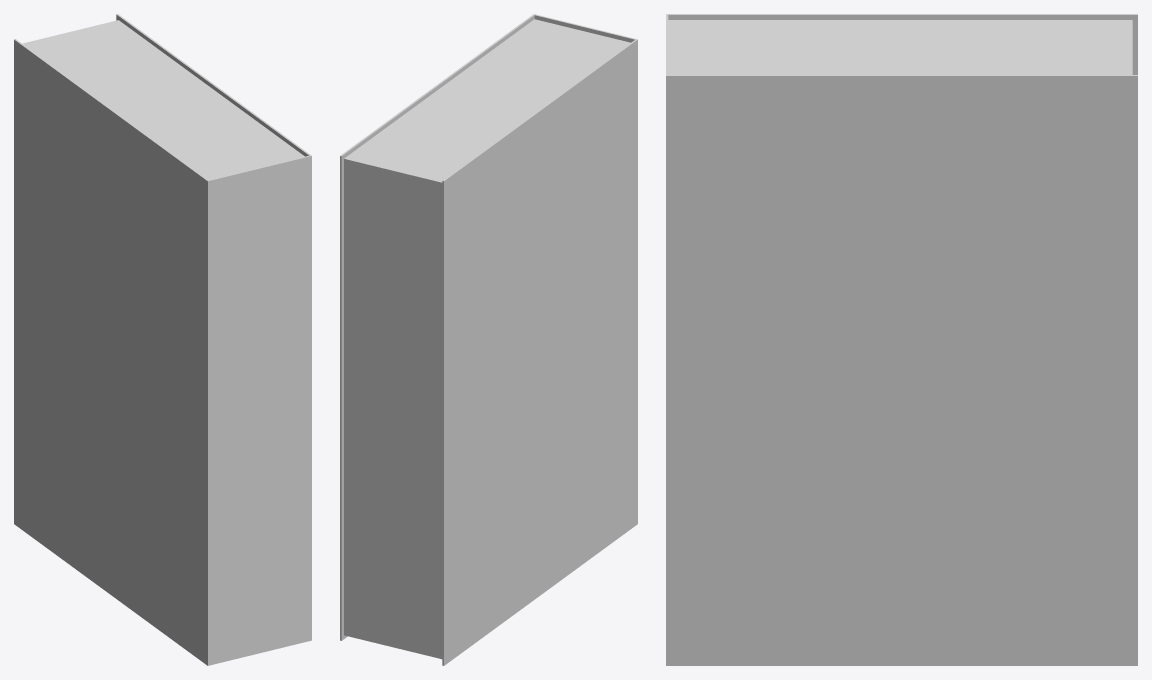
Rendered from random-books.glb.
3 views of the same model, side by side, from view 1: azimuth 30°, elevation 25°; view 2: azimuth 150°, elevation 25°; view 3: azimuth 270°, elevation 25° (orthographic). The views are drawn at different scales.
Parts seen in each view (by area): view 1: __X_BODY__Book; view 2: __X_BODY__Book; view 3: __X_BODY__Book.
Boxes of the visible parts, bbox=[...] form: __X_BODY__Book: bbox=[14, 14, 311, 665]; __X_BODY__Book: bbox=[340, 14, 637, 665]; __X_BODY__Book: bbox=[666, 14, 1137, 665].
Bounding box in the file's own units: 0.1211 × 0.5385 × 0.3904.
1 material, 1 textured.
